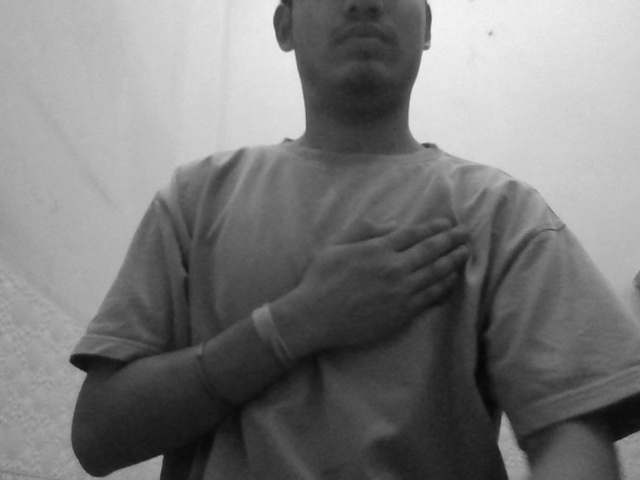Sorry: (274, 203, 522, 367)
